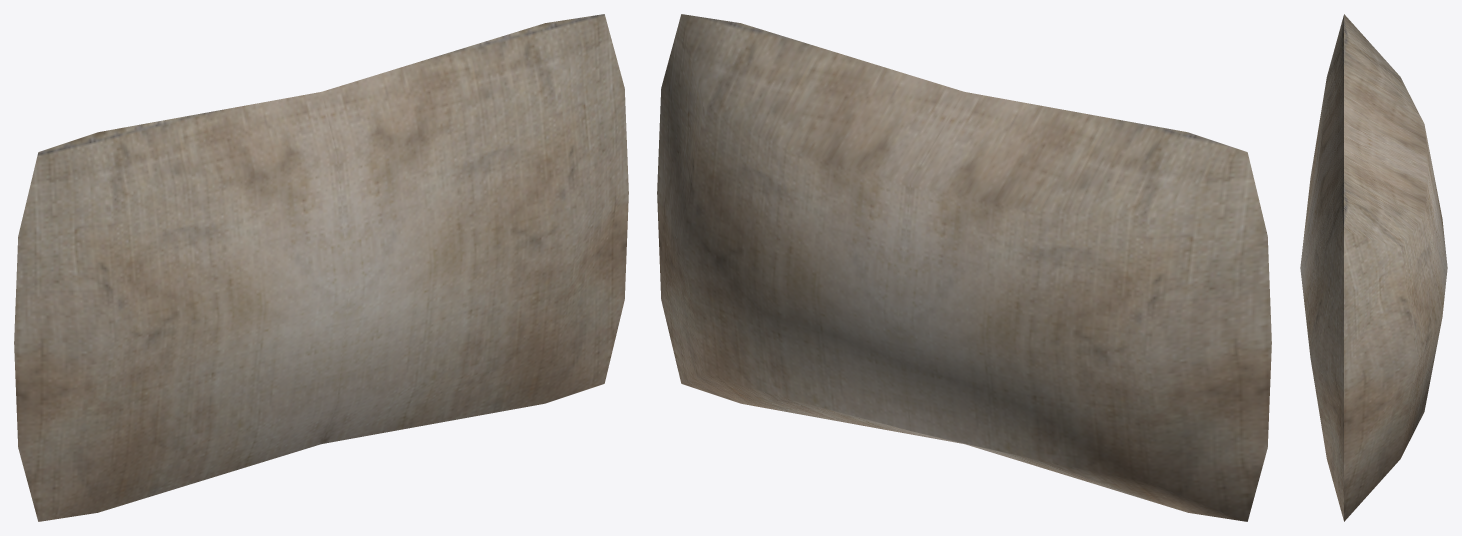
The model's file is Bag_Flat_A.fbx.
The picture shows the model from 3 angles, left to right: view 1: azimuth 30°, elevation 25°; view 2: azimuth 150°, elevation 25°; view 3: azimuth 270°, elevation 25°; orthographic projection. The views are drawn at different scales.
Visible parts, largest first — view 1: Bag_Flat_A; view 2: Bag_Flat_A; view 3: Bag_Flat_A.
Boxes of the visible parts, x1,y1,x2,y2 form: Bag_Flat_A: (14, 14, 628, 521); Bag_Flat_A: (657, 14, 1271, 521); Bag_Flat_A: (1300, 14, 1447, 521).
Bounding box in the file's own units: 1.49 × 0.8795 × 0.3924.
